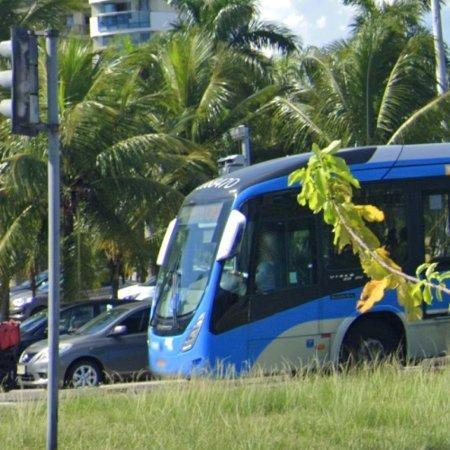buses: (148, 154, 450, 377), (339, 144, 450, 274)
